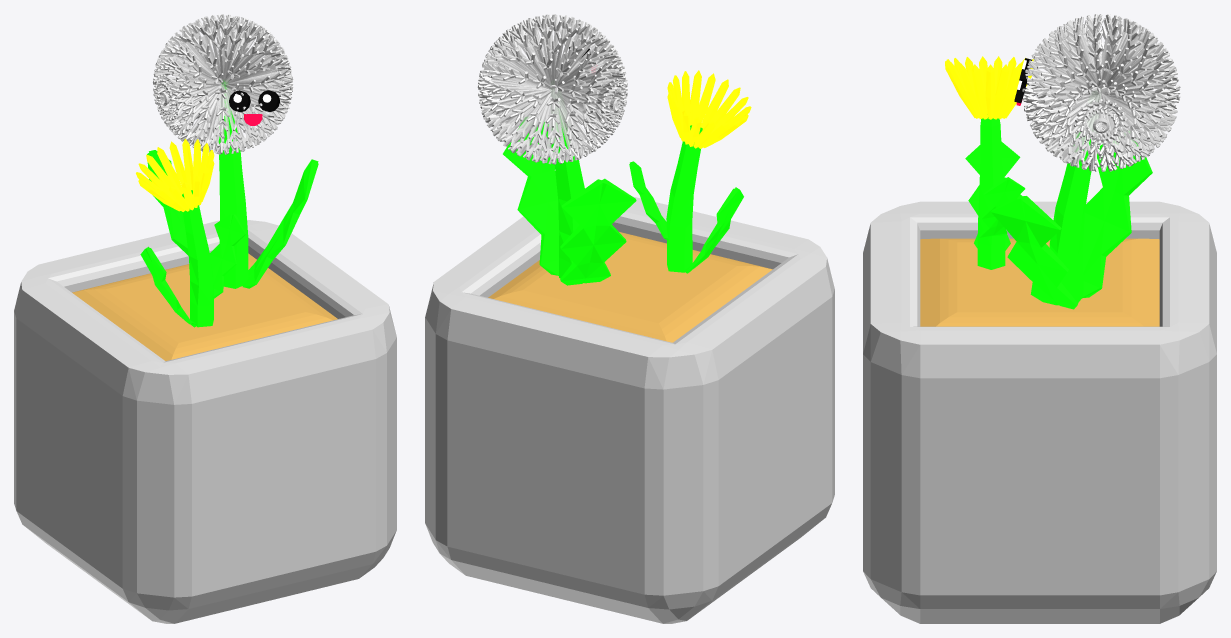
The model's file is STR_3D_dandelion_1.dae.
The picture shows the model from 3 angles, left to right: view 1: azimuth 30°, elevation 25°; view 2: azimuth 150°, elevation 25°; view 3: azimuth 270°, elevation 25°; orthographic projection. The views are drawn at different scales.
Visible parts, largest first — view 1: pot.003, Cylinder.010, soil.003, freesia_flower.015, Cylinder.008, Cylinder.009, Plane.012, Plane.009, Plane.010, Cylinder.012, Plane.011; view 2: pot.003, Cylinder.010, soil.003, Plane.011, freesia_flower.015, Plane.012, Cylinder.009, Cylinder.008, Plane.010, Plane.009; view 3: pot.003, Cylinder.010, soil.003, Plane.011, Plane.012, Cylinder.008, freesia_flower.015, Cylinder.009, Plane.009, Plane.010.
Part boxes in pixels (x1,y1,x2,y2): pot.003: (14,219,396,623); Cylinder.010: (153,14,293,154); soil.003: (72,253,337,360); freesia_flower.015: (136,138,214,211); Cylinder.008: (218,80,248,288); Cylinder.009: (182,190,213,327); Plane.012: (242,159,318,288); Plane.009: (209,214,245,298); Plane.010: (140,246,196,327); Cylinder.012: (229,90,279,125); Plane.011: (147,150,188,255); pot.003: (425,196,834,623); Cylinder.010: (477,14,627,164); soil.003: (488,232,772,342); Plane.011: (560,178,636,285); freesia_flower.015: (667,70,751,148); Plane.012: (503,117,559,275); Cylinder.009: (666,125,702,272); Cylinder.008: (552,117,584,278); Plane.010: (685,187,743,273); Plane.009: (629,161,668,240); pot.003: (863,201,1216,623); Cylinder.010: (1022,14,1180,171); soil.003: (920,238,1159,326); Plane.011: (1082,140,1152,298); Plane.012: (991,194,1078,309); Cylinder.008: (1049,132,1091,302); freesia_flower.015: (945,56,1033,119); Cylinder.009: (977,117,1005,269); Plane.009: (979,177,1025,241); Plane.010: (965,141,1020,250).
Size of the model in its own units: 2 by 2 by 3.59.
